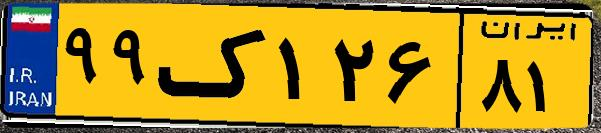1: (270, 28, 330, 110), (525, 38, 570, 115)
2: (330, 28, 385, 110)
6: (385, 28, 445, 110)
8: (475, 38, 525, 113)
9: (57, 26, 110, 100), (110, 28, 158, 98)
ک: (158, 12, 270, 120)
